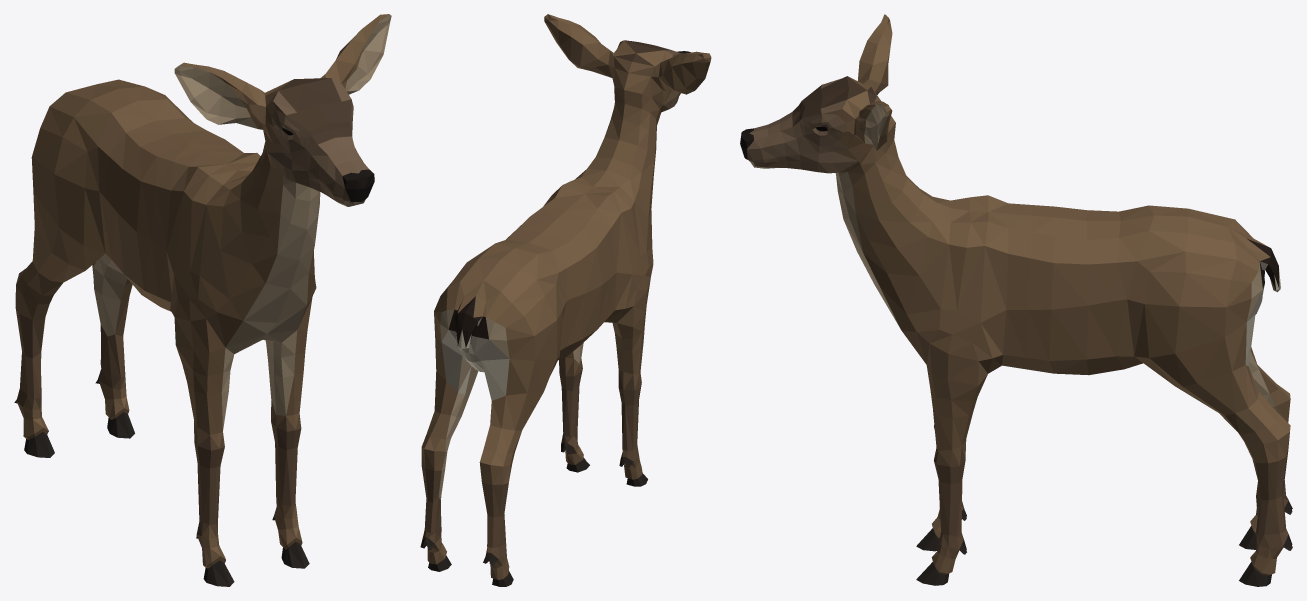
The model's file is deer.glb.
3 renders of one model, left to right at view 1: azimuth 30°, elevation 25°; view 2: azimuth 150°, elevation 25°; view 3: azimuth 270°, elevation 25°, orthographic. The views are drawn at different scales.
Parts seen in each view (by area): view 1: lod0; view 2: lod0; view 3: lod0.
Boxes of the visible parts, box(x1,y1,x2,y2) form: lod0: box(14, 14, 391, 586); lod0: box(420, 14, 711, 586); lod0: box(740, 14, 1292, 586).
Size of what is drawn, in the model's own units: 0.5538 by 1.35 by 1.34.
